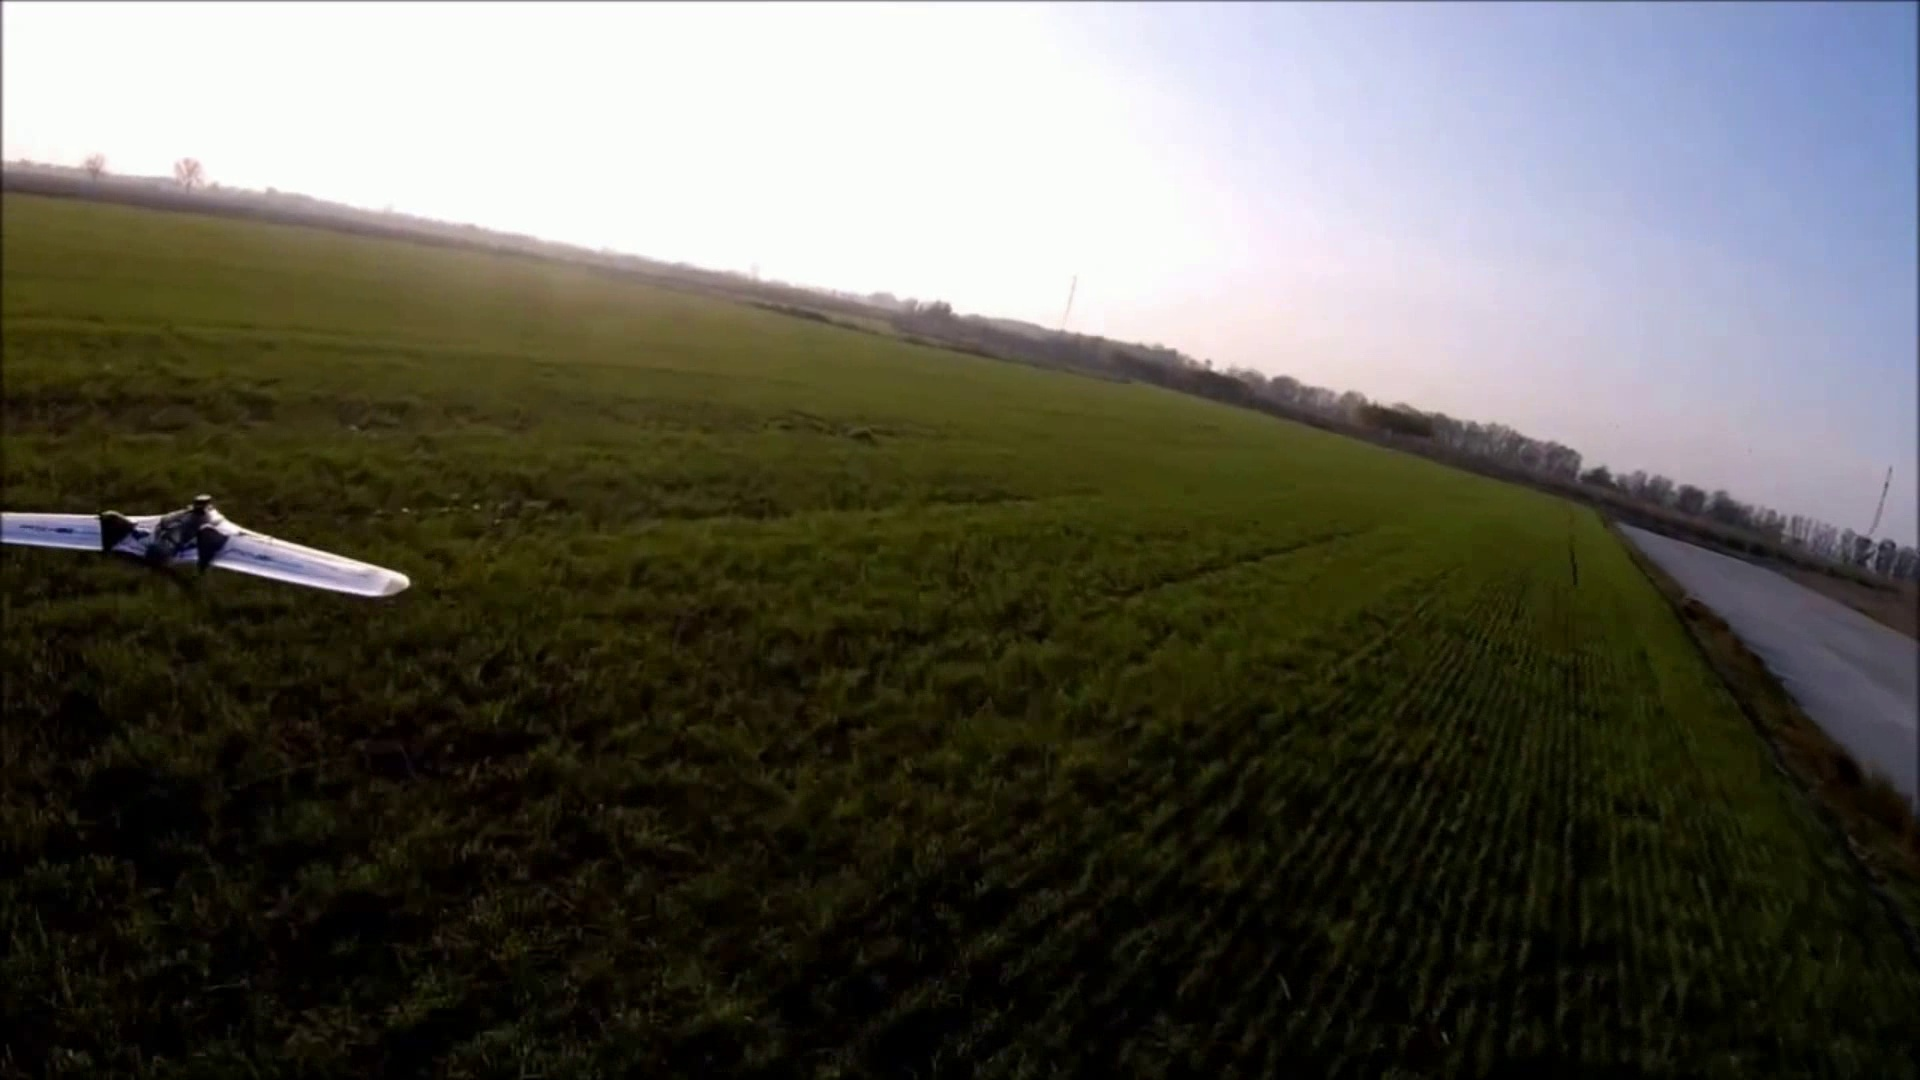airplane: (1, 495, 410, 604)
